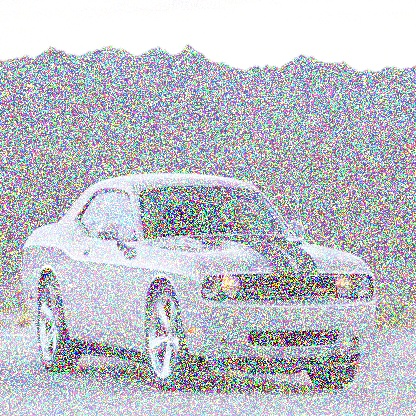Vehicle: (19, 171, 379, 395)
